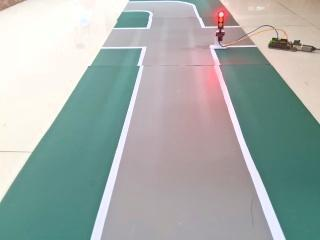red: (209, 7, 229, 36)
